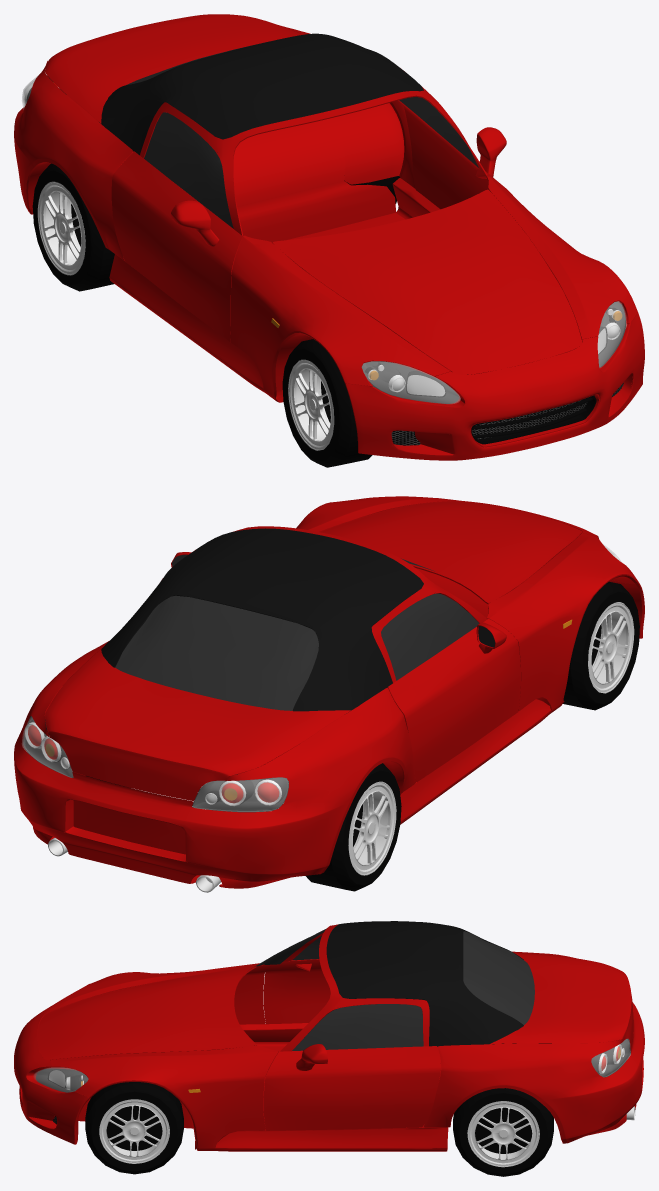
3 renders of one model, top to bottom at view 1: azimuth 30°, elevation 25°; view 2: azimuth 150°, elevation 25°; view 3: azimuth 270°, elevation 25°, orthographic. The views are drawn at different scales.
Parts seen in each view (by area): view 1: Plane, Plane.001, Plane.009, Plane.023, Plane.004, Plane.005, Plane.028, Plane.006, Circle, Plane.022, Circle.001, Plane.003 (+8 smaller); view 2: Plane.005, Plane.009, Plane.006, Plane.022, Plane, Plane.001, Plane.004, Circle, Circle.001, Plane.003, Plane.016, Plane.008 (+7 smaller); view 3: Plane.004, Plane.001, Plane.005, Plane.009, Plane, Circle, Plane.022, Plane.006, Plane.003, Circle.001, Plane.023, Plane.008 (+5 smaller).
Part boxes in pixels (x1,y1,x2,y2): Plane: (272, 189, 582, 374); Plane.001: (230, 176, 637, 401); Plane.009: (99, 33, 423, 155); Plane.023: (345, 312, 644, 460); Plane.004: (111, 100, 512, 341); Plane.005: (14, 20, 415, 259); Plane.028: (31, 118, 405, 402); Plane.006: (45, 14, 302, 123); Circle: (32, 163, 399, 467); Plane.022: (126, 44, 478, 228); Circle.001: (37, 181, 334, 450); Plane.003: (109, 178, 440, 402); Plane.005: (14, 641, 415, 888); Plane.009: (101, 528, 423, 713); Plane.006: (45, 649, 350, 800); Plane.022: (115, 558, 479, 710); Plane: (319, 501, 582, 604); Plane.001: (296, 496, 637, 710); Plane.004: (388, 618, 520, 782); Circle: (86, 581, 639, 891); Circle.001: (348, 602, 634, 875); Plane.003: (400, 697, 562, 824); Plane.016: (22, 716, 288, 811); Plane.008: (161, 526, 487, 682); Plane.004: (263, 959, 440, 1130); Plane.001: (50, 963, 278, 1149); Plane.005: (423, 951, 644, 1143); Plane.009: (326, 921, 523, 1046); Plane: (37, 966, 256, 1060); Circle: (85, 1043, 553, 1176); Plane.022: (251, 928, 534, 1050); Plane.006: (490, 952, 633, 1048); Plane.003: (197, 1023, 446, 1151); Circle.001: (99, 1099, 539, 1167); Plane.023: (14, 1006, 89, 1144); Plane.008: (280, 924, 429, 1051).
Bounding box in the file's own units: 1.27 × 0.8695 × 2.81.
Materials: 16 (1 with a texture image).
